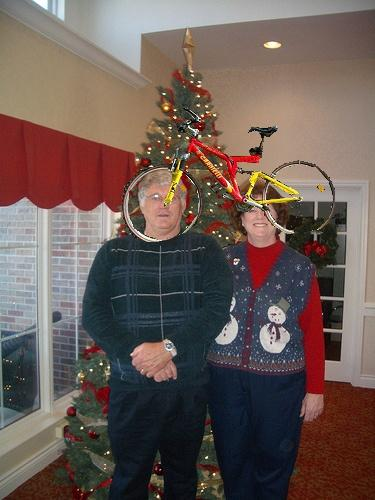tampered: (123, 109, 335, 242)
